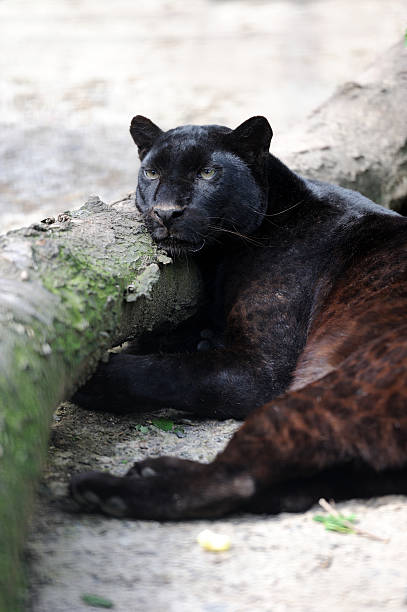panther: (113, 111, 300, 283)
